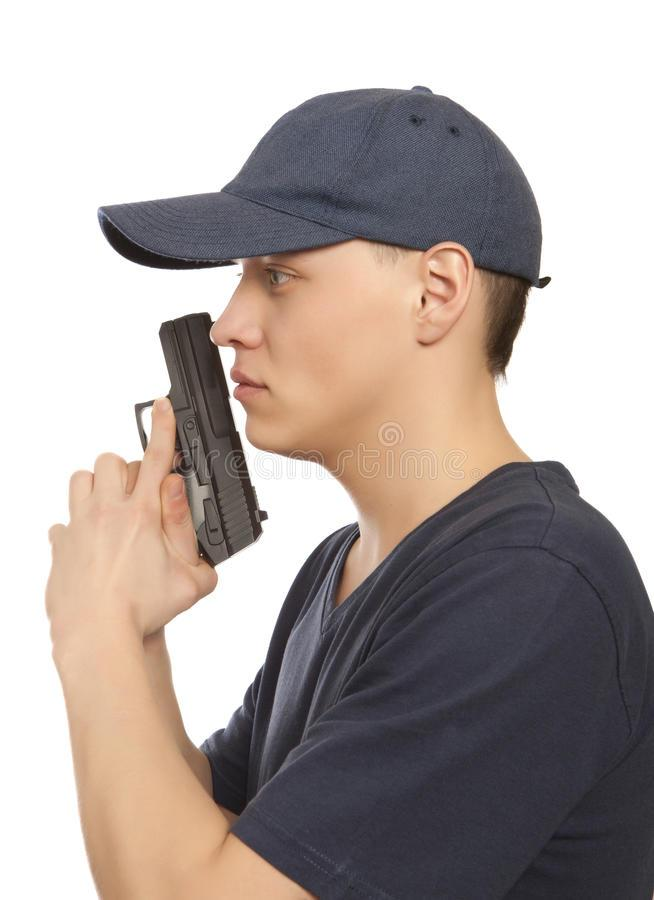criminal: (43, 78, 654, 900)
weapon: (126, 304, 274, 572)
